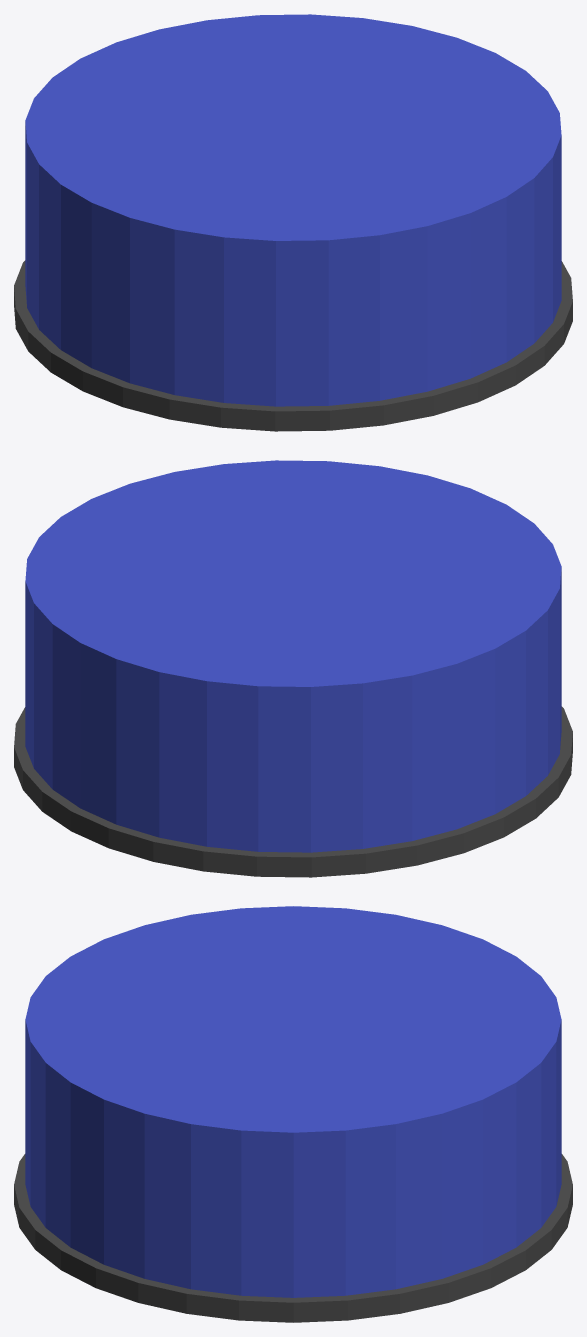
File: PlatformCar.fbx
3 renders of one model, top to bottom at view 1: azimuth 30°, elevation 25°; view 2: azimuth 150°, elevation 25°; view 3: azimuth 270°, elevation 25°, orthographic.
Parts seen in each view (by area): view 1: Piattaforma; view 2: Piattaforma; view 3: Piattaforma.
Part boxes in pixels (<box>): Piattaforma: <box>14,14,572,431</box>; Piattaforma: <box>14,460,572,877</box>; Piattaforma: <box>14,906,572,1322</box>.
Size of the model in its own units: 200 by 73.14 by 200.
